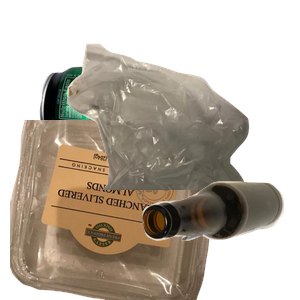glass: (140, 179, 300, 300)
metal: (37, 64, 245, 214)
plastic: (10, 120, 227, 300)
trash: (65, 41, 300, 221)
